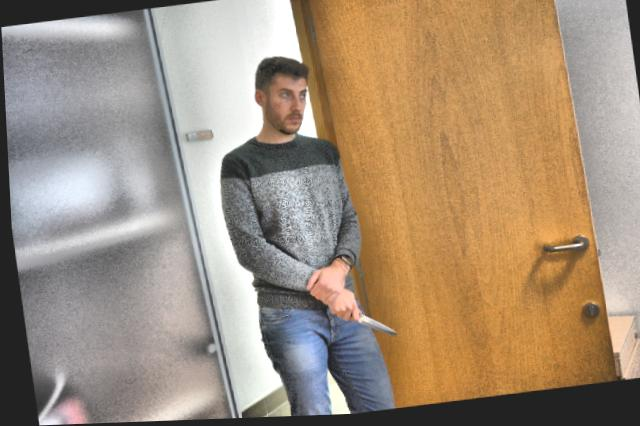knife: (339, 305, 399, 350)
